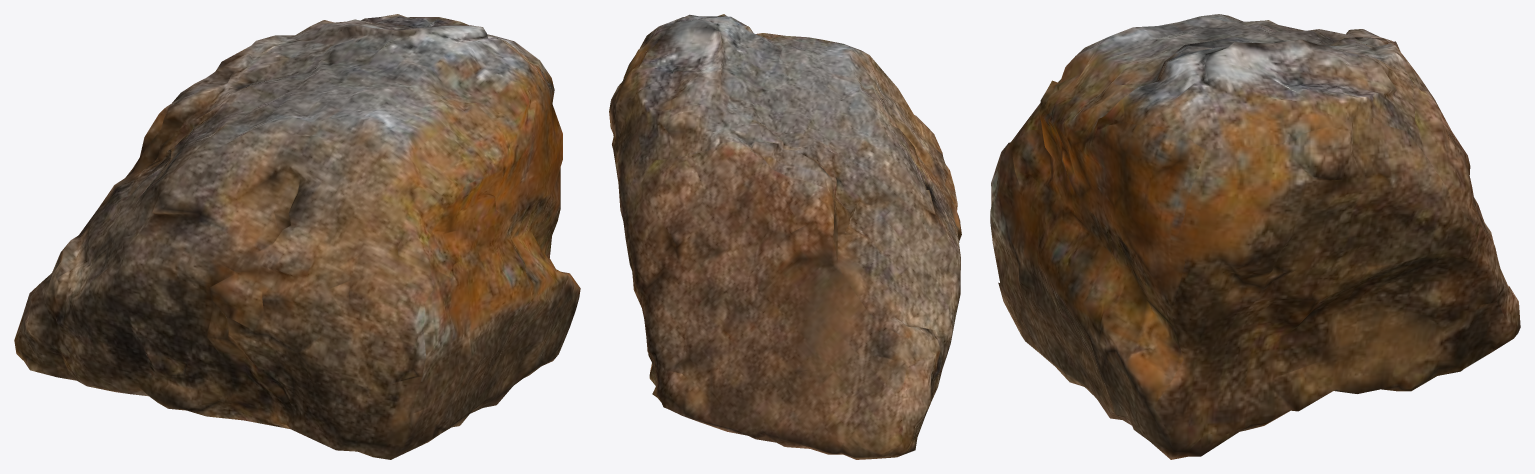
The model's file is namaqualand_boulder_04.glb.
3 views of the same model, side by side, from view 1: azimuth 30°, elevation 25°; view 2: azimuth 150°, elevation 25°; view 3: azimuth 270°, elevation 25° (orthographic). The views are drawn at different scales.
Visible parts, largest first — view 1: boulder_04; view 2: boulder_04; view 3: boulder_04.
Boxes of the visible parts, x1,y1,x2,y2 form: boulder_04: [14, 14, 580, 459]; boulder_04: [609, 14, 961, 459]; boulder_04: [990, 14, 1520, 459].
Bounding box in the file's own units: 2.52 × 1.9 × 2.48.
Materials: 1 (1 with a texture image).
